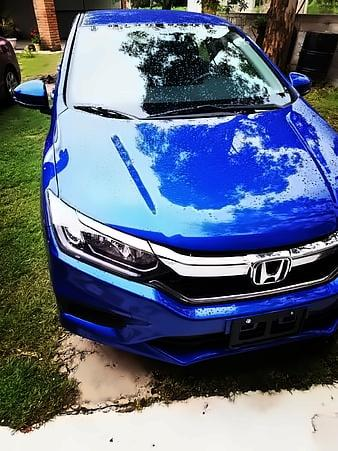Car hood: (50, 103, 338, 260)
Front bumper: (24, 257, 338, 375)
Headlight - -R-: (39, 185, 164, 282)
Side mirror - -L-: (279, 60, 318, 103)
Side mirror - -R-: (8, 70, 53, 117)
